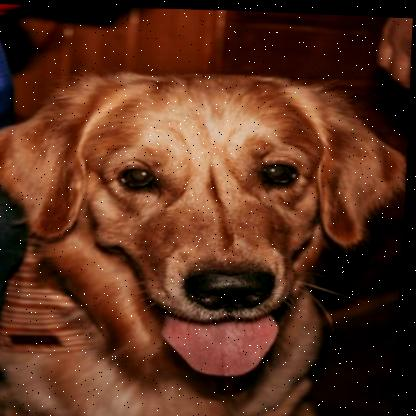dog: (0, 55, 413, 416)
